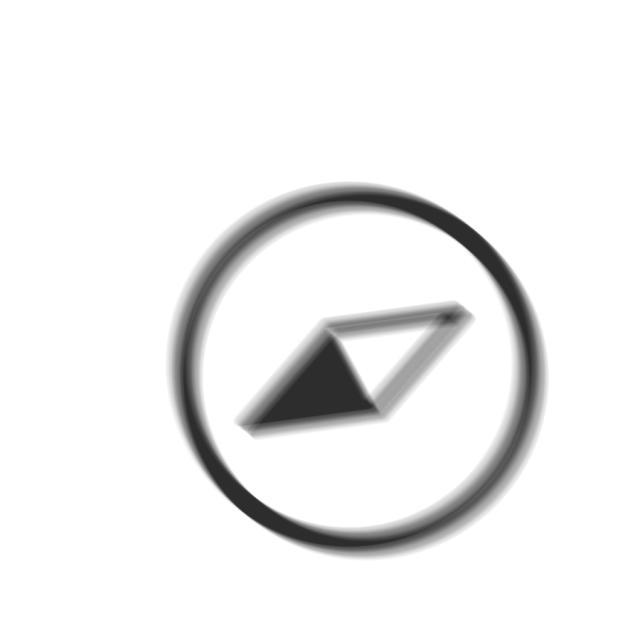compass: (164, 178, 553, 567)
